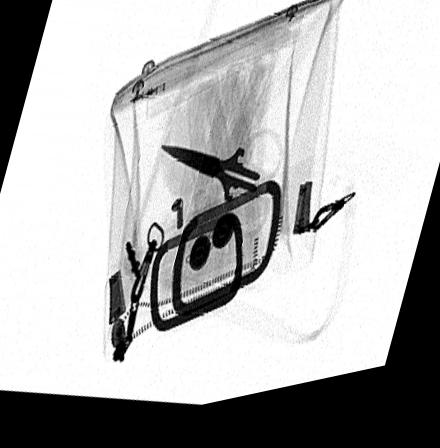Scissors: (159, 138, 286, 251)
